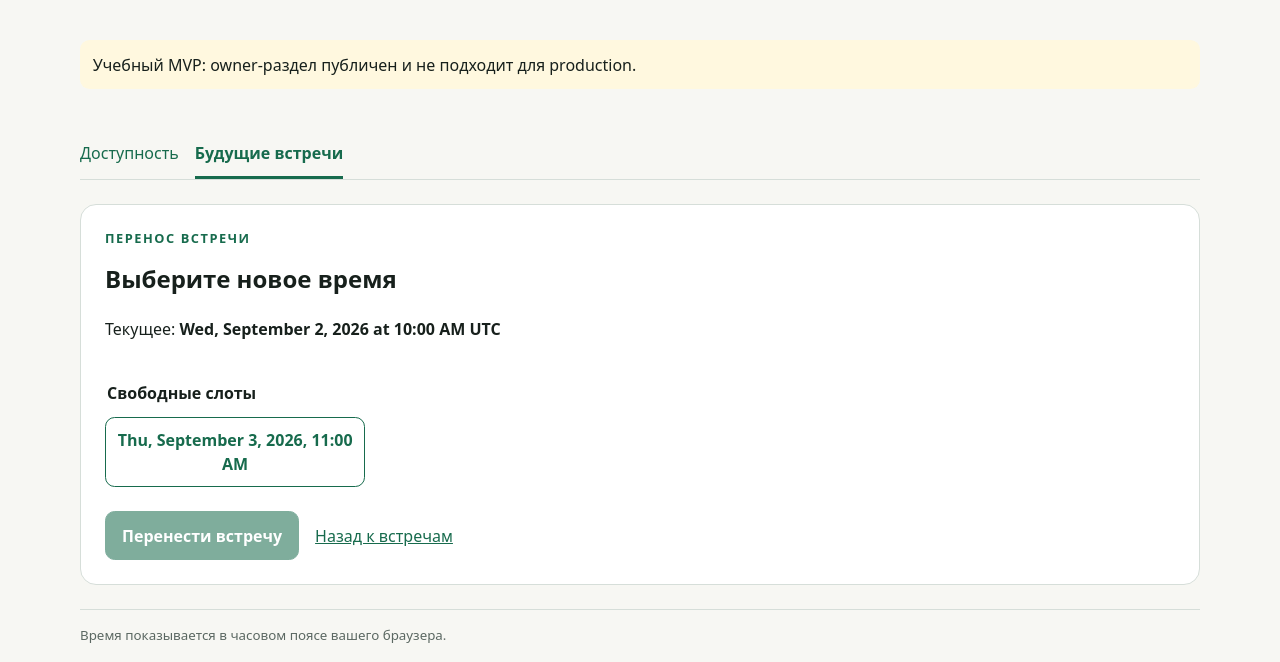
Test case: ключевые сценарии на contract mock › после неуспешного переноса сохраняет исходное время в UI
(page scrolled)
Click the radio button: (235,452) x1=105 y1=417 x2=365 y2=487
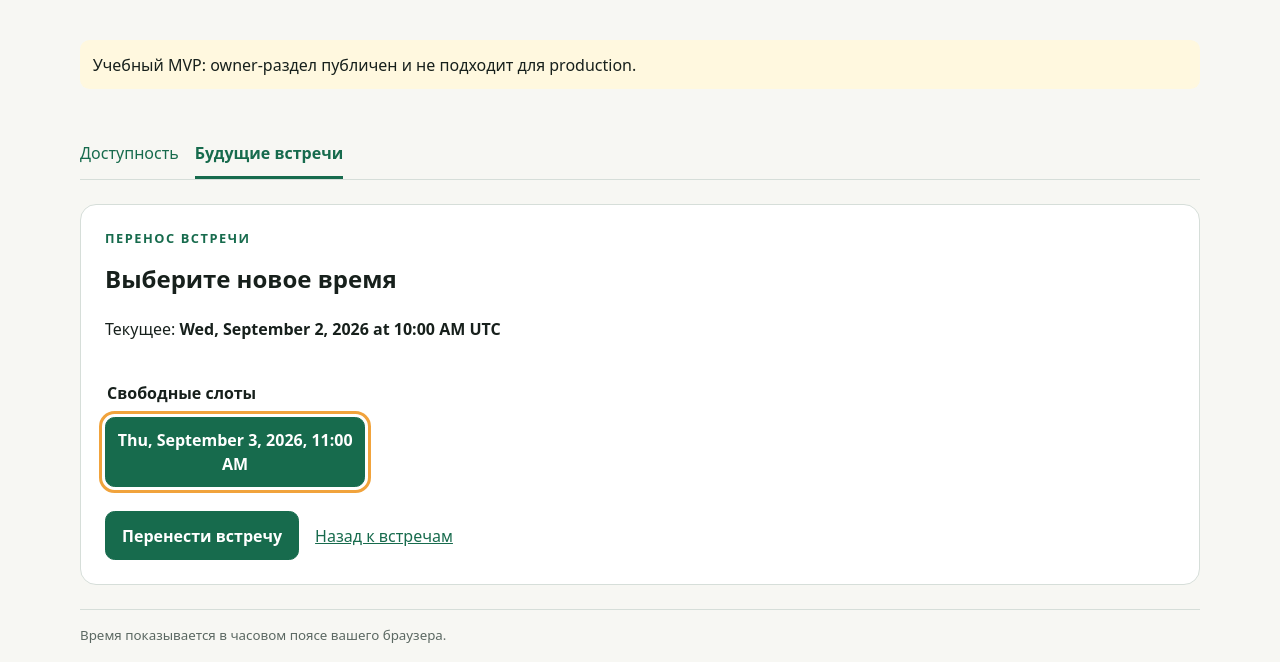
Click the button "Перенести встречу": (202,536) x1=105 y1=511 x2=299 y2=560
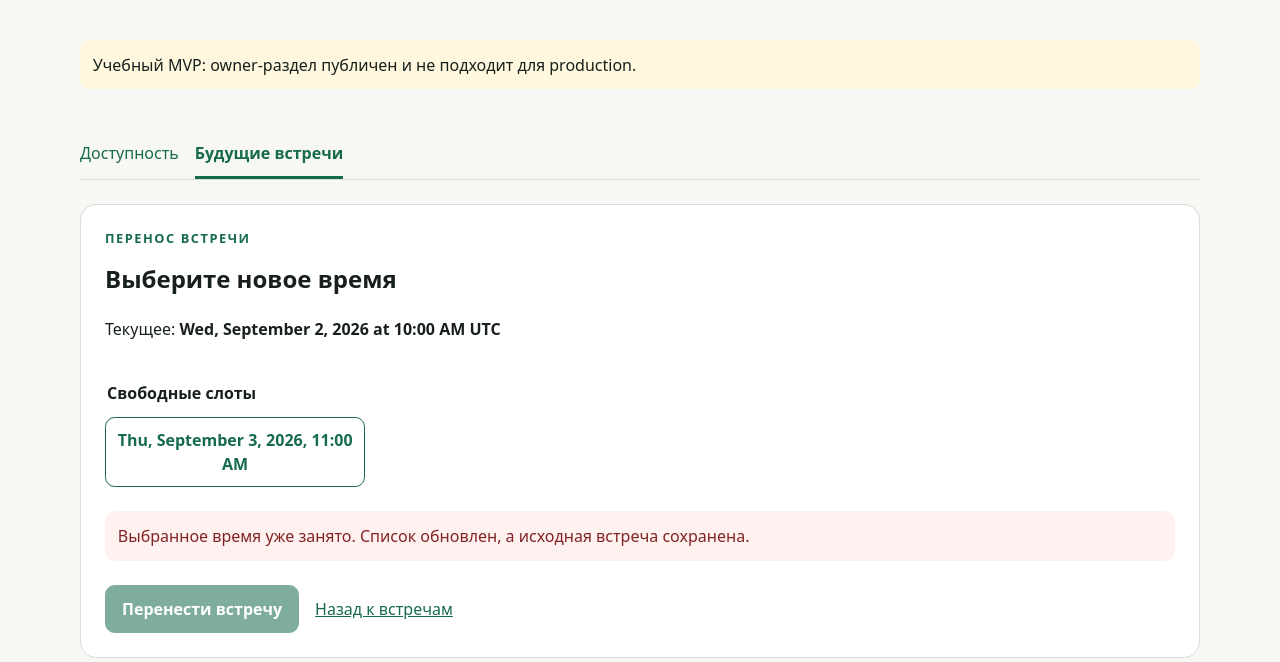
Expected: the text "Текущее: Wed, September 2, 2026 at 10:00 AM UTC" is shown, x1=105 y1=318 x2=501 y2=340
Now the message shows "исходная встреча сохранена", box x1=118 y1=525 x2=749 y2=547
